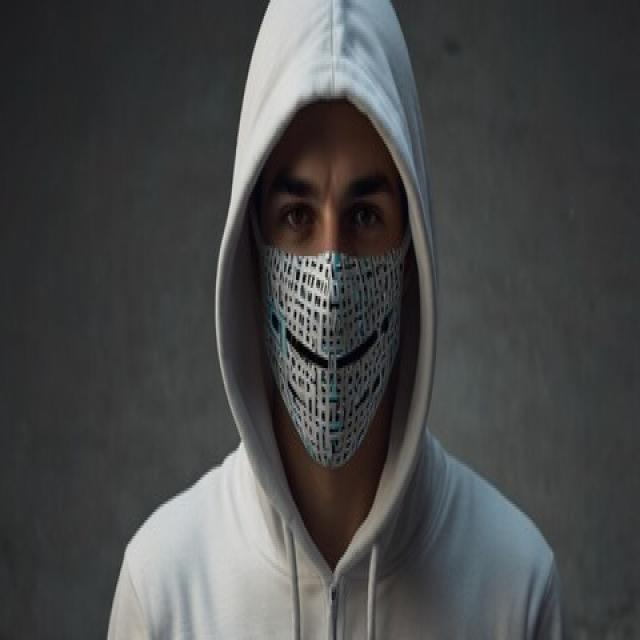person-with-mask: (128, 0, 560, 640)
